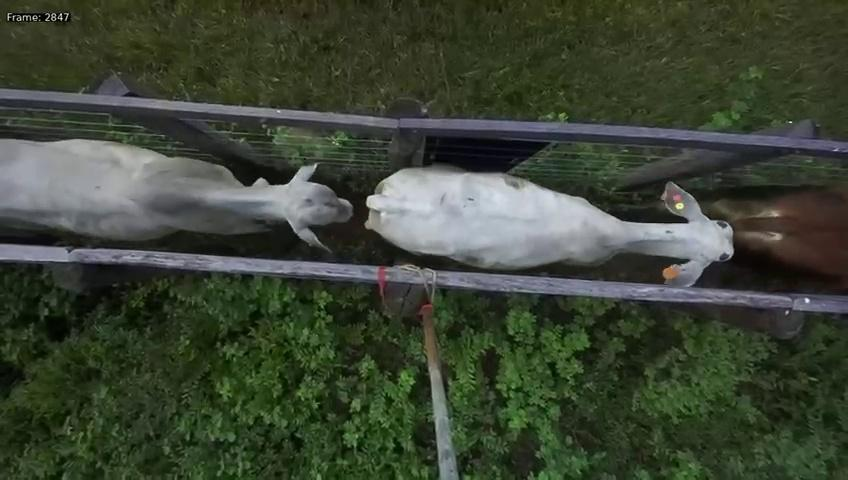cattle: (362, 156, 740, 286), (0, 128, 358, 258)
